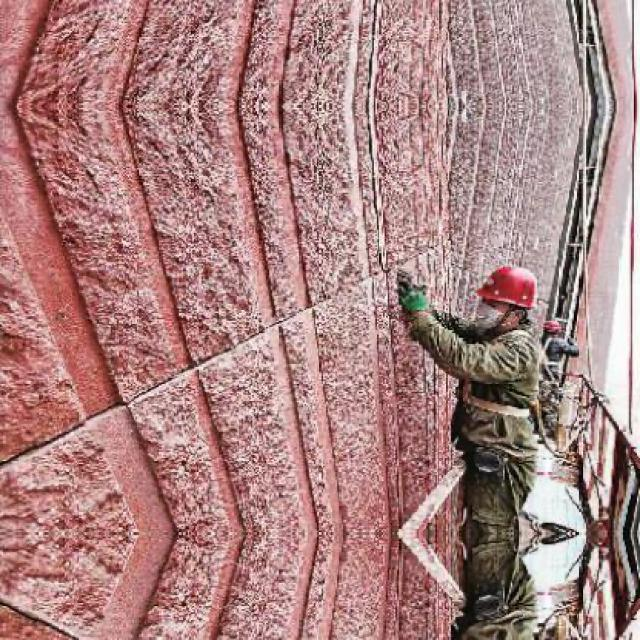helmet: (474, 260, 540, 338), (542, 317, 564, 348)
